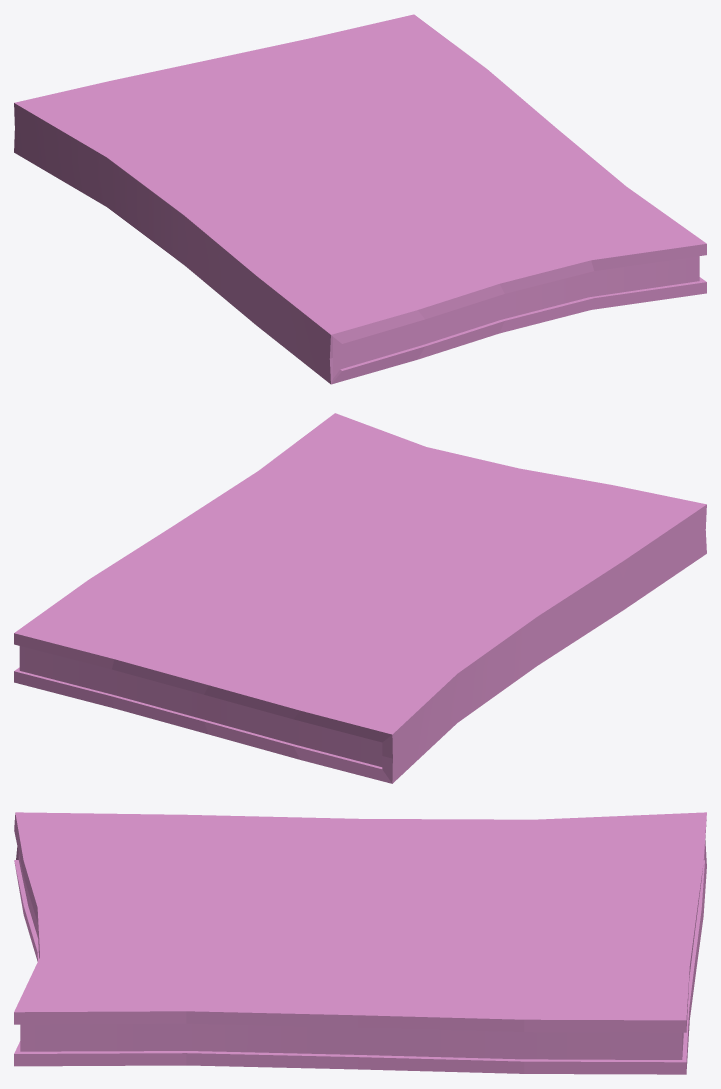
The model's file is COPY_BOOK_1.fbx.
The picture shows the model from 3 angles, top to bottom: view 1: azimuth 30°, elevation 25°; view 2: azimuth 150°, elevation 25°; view 3: azimuth 270°, elevation 25°; orthographic projection. The views are drawn at different scales.
Visible parts, largest first — view 1: COPY_BOOK001; view 2: COPY_BOOK001; view 3: COPY_BOOK001.
Part boxes in pixels (bbox=[...]): COPY_BOOK001: bbox=[14, 14, 706, 384]; COPY_BOOK001: bbox=[14, 413, 706, 783]; COPY_BOOK001: bbox=[14, 812, 706, 1074].
Bounding box in the file's own units: 13.16 × 1.6 × 18.52.
